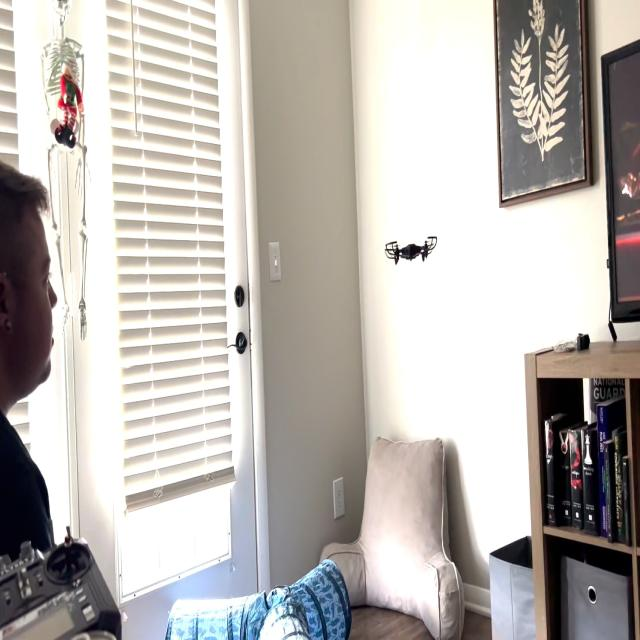drone: (379, 224, 443, 271)
